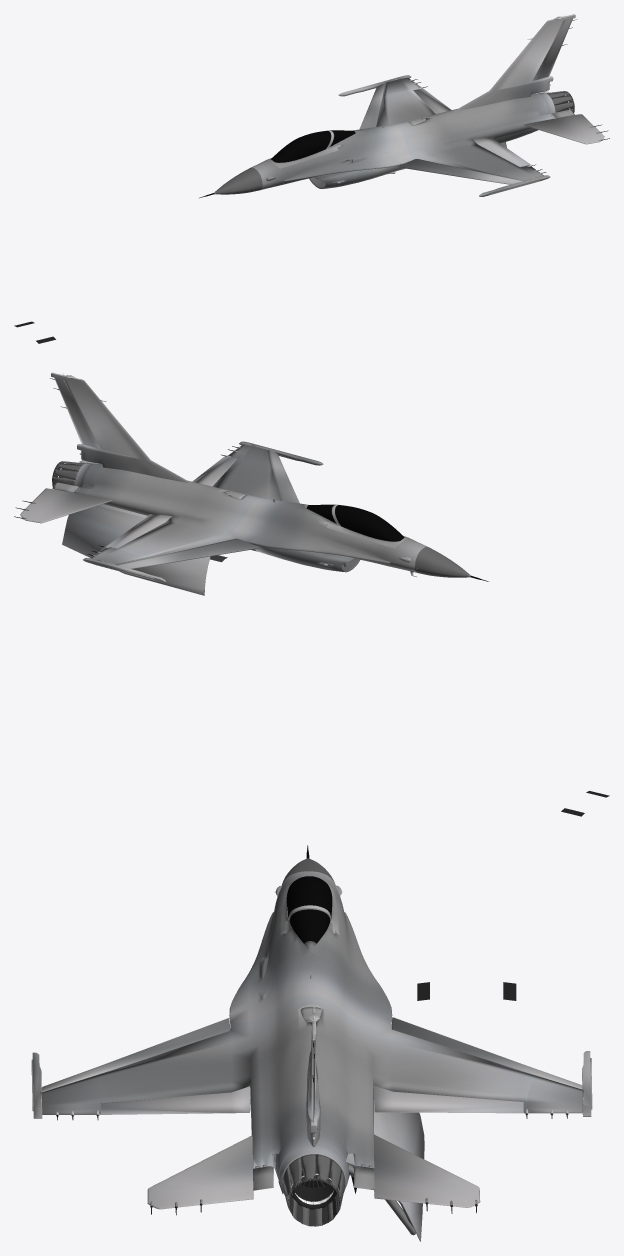
File: f_16a_1_blend_by_nilstheacevrchat_dkuvfv5.glb
3 views of the same model, one above another, from view 1: azimuth 30°, elevation 25°; view 2: azimuth 150°, elevation 25°; view 3: azimuth 270°, elevation 25° (orthographic). The views are drawn at different scales.
Parts seen in each view (by area): view 1: _G-Object.003 (Loose Mesh), _C-Gruppieren#18 (Loose Mesh).001, C-Gruppieren#26.001, C-Gruppieren#21.001, G-Object.006, G-Object.010, C-Gruppieren#7, C-Gruppieren#21; view 2: _G-Object.003 (Loose Mesh), Gruppieren#16, _C-Gruppieren#18 (Loose Mesh), C-Gruppieren#26, C-Gruppieren#21, G-Object.006, G-Object.010, C-Gruppieren#7.001, C-Gruppieren#21.001; view 3: _G-Object.003 (Loose Mesh), _C-Gruppieren#18 (Loose Mesh).001, _C-Gruppieren#18 (Loose Mesh), Gruppieren#16, C-Gruppieren#7, C-Gruppieren#7.001, C-Gruppieren#21.001, C-Gruppieren#21, C-Gruppieren#26.001, C-Gruppieren#26, G-Object.062, G-Object.012.
Boxes of the visible parts, <box> form: _G-Object.003 (Loose Mesh): <box>251,14,575,196</box>; _C-Gruppieren#18 (Loose Mesh).001: <box>524,114,604,144</box>; C-Gruppieren#26.001: <box>273,131,355,162</box>; C-Gruppieren#21.001: <box>398,159,522,184</box>; G-Object.006: <box>198,167,262,198</box>; G-Object.010: <box>532,18,576,80</box>; C-Gruppieren#7: <box>472,137,530,167</box>; C-Gruppieren#21: <box>359,83,384,129</box>; _G-Object.003 (Loose Mesh): <box>51,372,427,582</box>; Gruppieren#16: <box>62,483,210,595</box>; _C-Gruppieren#18 (Loose Mesh): <box>20,488,112,523</box>; C-Gruppieren#26: <box>306,505,402,541</box>; C-Gruppieren#21: <box>117,538,258,568</box>; G-Object.006: <box>415,547,489,581</box>; G-Object.010: <box>50,377,100,448</box>; C-Gruppieren#7.001: <box>106,514,172,548</box>; C-Gruppieren#21.001: <box>268,450,299,503</box>; _G-Object.003 (Loose Mesh): <box>31,871,592,1204</box>; _C-Gruppieren#18 (Loose Mesh).001: <box>147,1135,253,1209</box>; _C-Gruppieren#18 (Loose Mesh): <box>373,1134,480,1207</box>; Gruppieren#16: <box>346,1099,424,1241</box>; C-Gruppieren#7: <box>101,1086,250,1114</box>; C-Gruppieren#7.001: <box>374,1086,523,1113</box>; C-Gruppieren#21.001: <box>41,1018,230,1092</box>; C-Gruppieren#21: <box>391,1017,582,1089</box>; C-Gruppieren#26.001: <box>286,876,310,943</box>; C-Gruppieren#26: <box>309,876,332,943</box>; G-Object.062: <box>280,884,339,934</box>; G-Object.012: <box>289,1175,339,1209</box>.
Bounding box in the file's own units: 6.55 × 2.76 × 3.1.
Materials: 14 (1 with a texture image).
